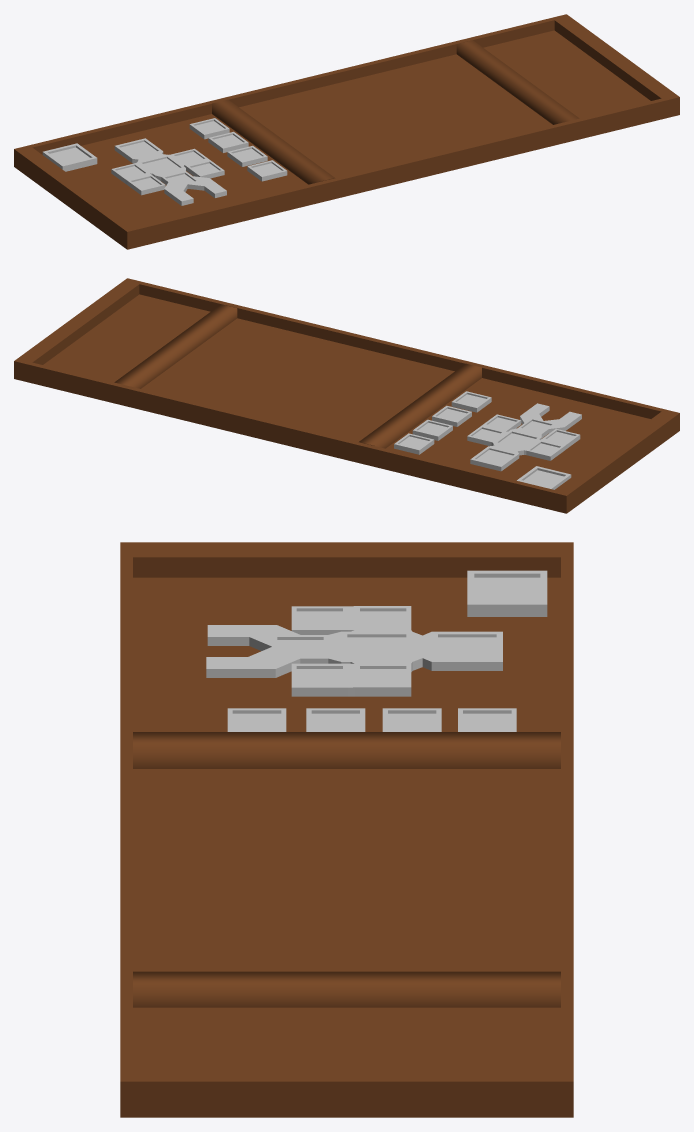
Rendered from Action.obj.
3 views of the same model, one above another, from view 1: azimuth 30°, elevation 25°; view 2: azimuth 150°, elevation 25°; view 3: azimuth 270°, elevation 25° (orthographic). The views are drawn at different scales.
Visible parts, largest first — view 1: карта, Куб.001, Куб.008, Куб.010, Куб.011, Куб.009, Куб.007; view 2: карта, Куб.001, Куб.008, Куб.007, Куб.011, Куб.010, Куб.009; view 3: карта, Куб.001, Куб.008, Куб.009, Куб.010, Куб.011, Куб.007.
Boxes of the visible parts, x1,y1,x2,y2 form: карта: (14,14,679,249); Куб.001: (111,138,226,205); Куб.008: (42,143,97,171); Куб.010: (227,145,267,166); Куб.011: (247,160,287,181); Куб.009: (208,131,248,152); Куб.007: (189,118,229,139); карта: (14,278,679,513); Куб.001: (467,403,581,471); Куб.008: (517,466,571,489); Куб.007: (394,433,434,454); Куб.011: (451,391,491,412); Куб.010: (432,405,471,426); Куб.009: (412,419,452,440); карта: (120,542,573,1117); Куб.001: (206,606,502,696); Куб.008: (467,570,547,616); Куб.009: (382,708,441,731); Куб.010: (306,708,365,731); Куб.011: (227,708,286,731); Куб.007: (458,708,516,731).
Size of the model in its own units: 1 by 0.0313 by 0.3552.
